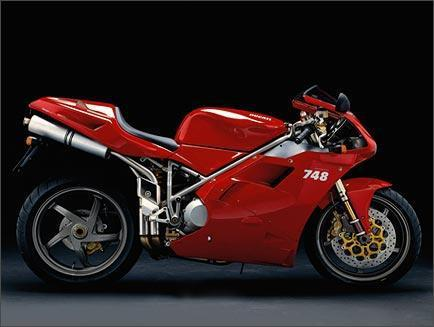motorcycle: (13, 62, 434, 300)
